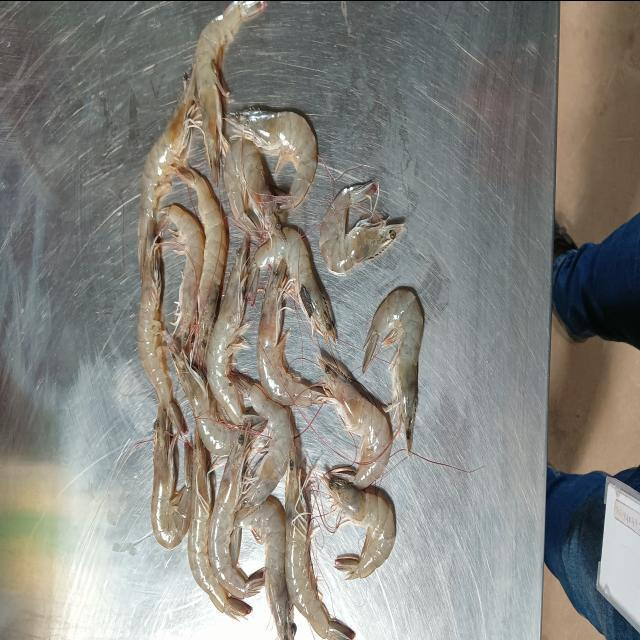shrimp: (285, 443, 355, 640), (195, 0, 266, 184), (138, 69, 201, 268), (188, 425, 251, 618), (175, 166, 228, 363), (246, 226, 336, 341), (362, 288, 424, 452), (256, 261, 325, 405), (318, 354, 392, 487), (231, 372, 295, 525), (138, 239, 188, 434), (209, 432, 264, 598), (228, 109, 318, 208), (206, 237, 249, 425), (168, 341, 238, 456), (241, 494, 296, 640), (320, 182, 404, 275), (322, 474, 396, 578), (161, 204, 205, 346), (224, 135, 282, 239), (151, 405, 192, 549)
